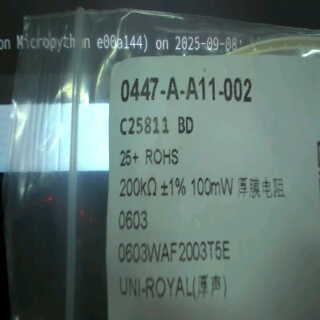200kR: (117, 173, 160, 203)
